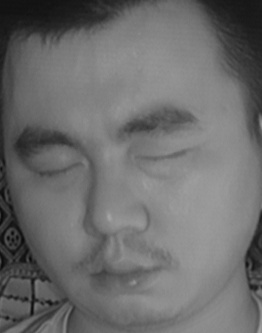blink: (32, 152, 87, 195), (136, 138, 196, 177)
mouth: (86, 248, 161, 299)
